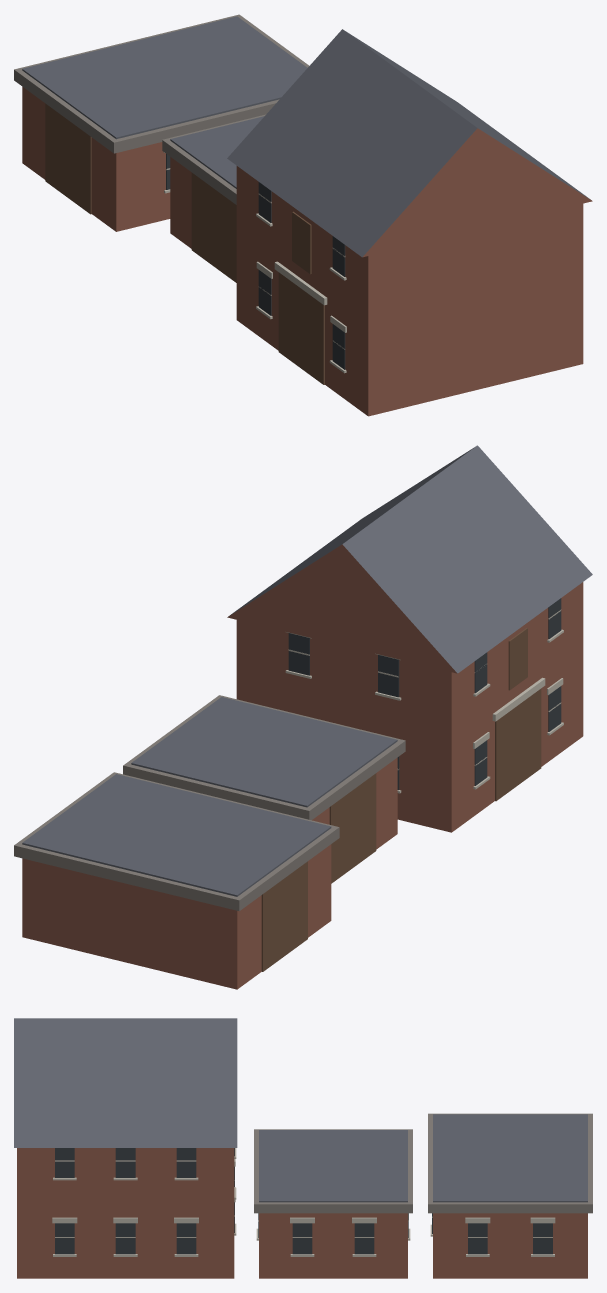
The model's file is sears_meeker_house_1815_prairie_coach_house__draft_1904.glb.
The picture shows the model from 3 angles, top to bottom: view 1: azimuth 30°, elevation 25°; view 2: azimuth 150°, elevation 25°; view 3: azimuth 270°, elevation 25°; orthographic projection. The views are drawn at different scales.
Visible parts, largest first — view 1: sears_meeker_house_1815_prairie_coach_house__draft_1904; view 2: sears_meeker_house_1815_prairie_coach_house__draft_1904; view 3: sears_meeker_house_1815_prairie_coach_house__draft_1904.
Part boxes in pixels (<box>): sears_meeker_house_1815_prairie_coach_house__draft_1904: <box>14,14,592,416</box>; sears_meeker_house_1815_prairie_coach_house__draft_1904: <box>14,445,592,989</box>; sears_meeker_house_1815_prairie_coach_house__draft_1904: <box>14,1018,592,1278</box>.
Size of the model in its own units: 8.85 by 9.66 by 23.32.
